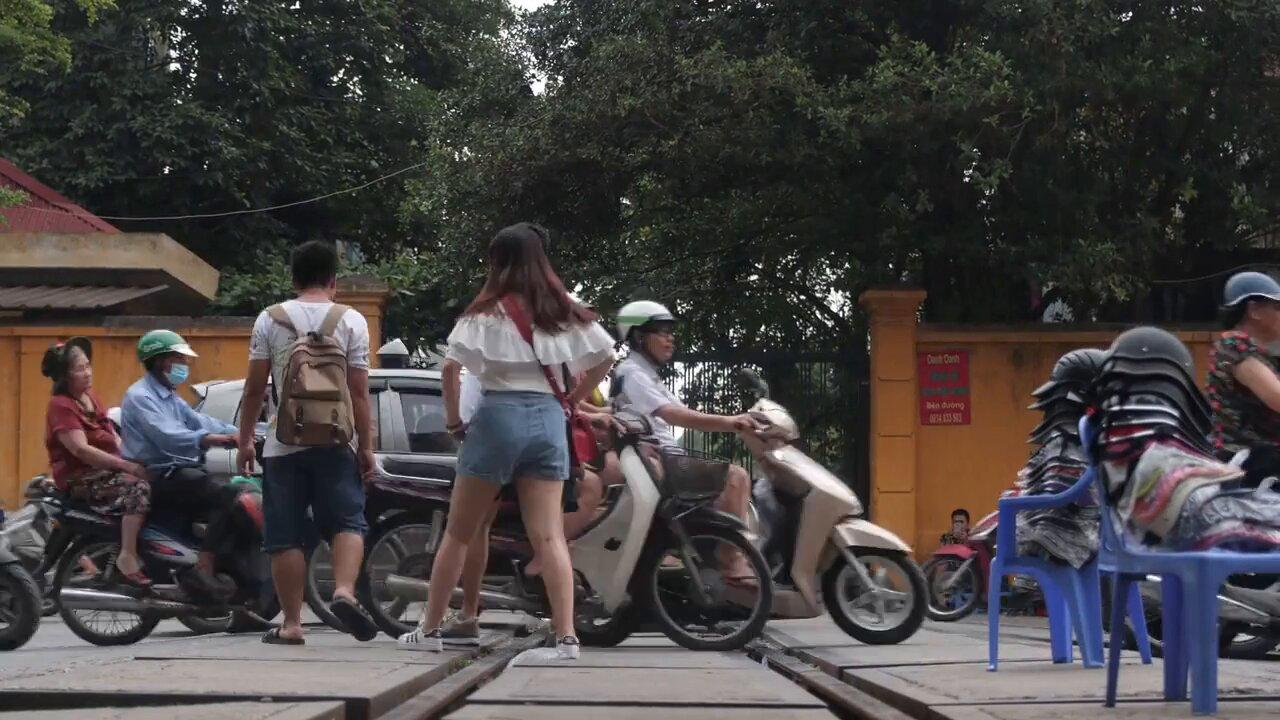driver: (41, 327, 413, 648), (611, 301, 930, 644)
helmet: (615, 301, 679, 369), (137, 328, 200, 390)
no-helmet: (483, 222, 564, 291), (1219, 272, 1280, 343), (42, 335, 94, 391), (291, 240, 338, 300)
